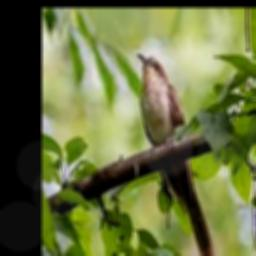Cuckoo: (136, 53, 222, 256)
